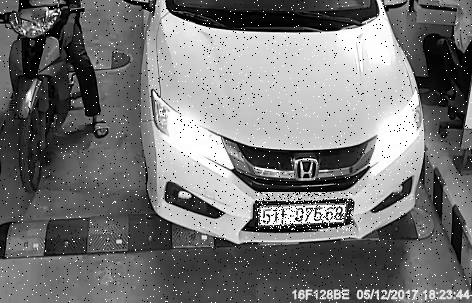License-plate: (257, 194, 355, 233)
